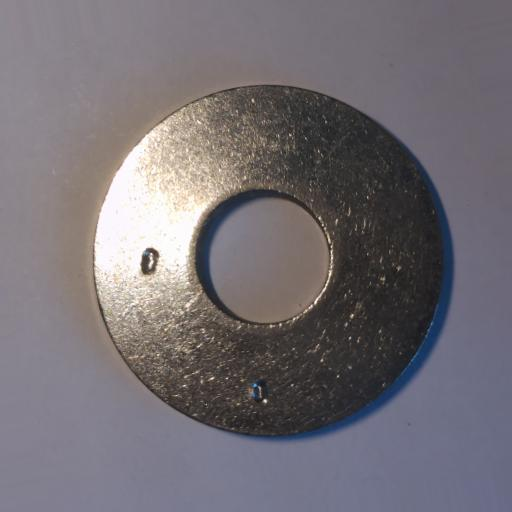circular_cavity: (140, 248, 160, 274), (251, 380, 269, 403)
